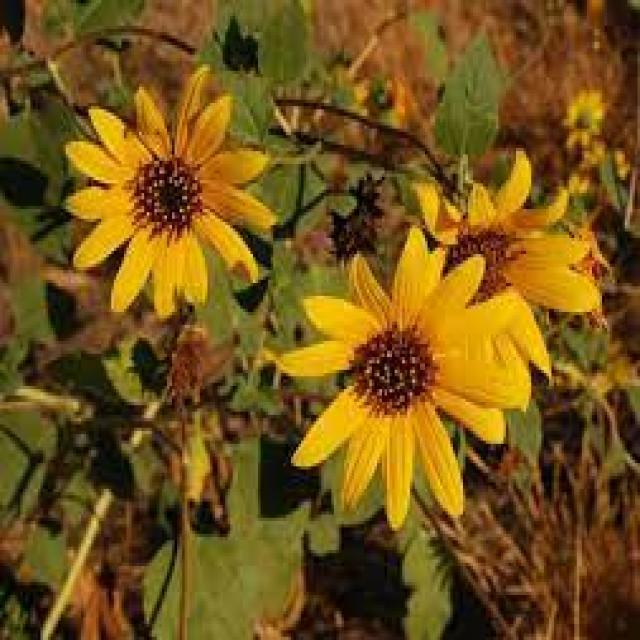sunflower: (268, 217, 558, 541), (58, 56, 280, 316), (408, 142, 610, 360)
